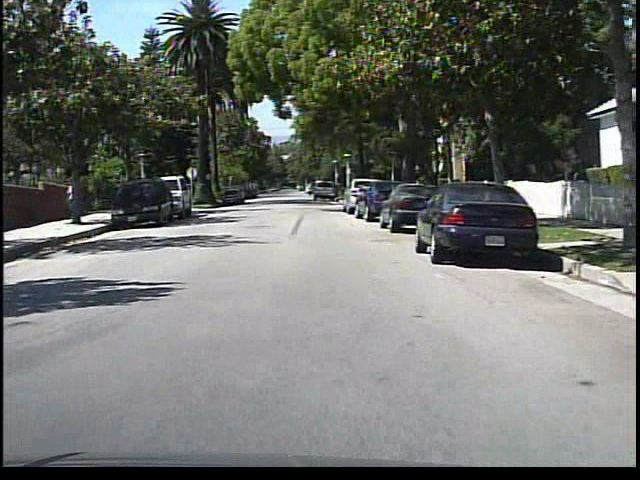person: (65, 179, 82, 218)
